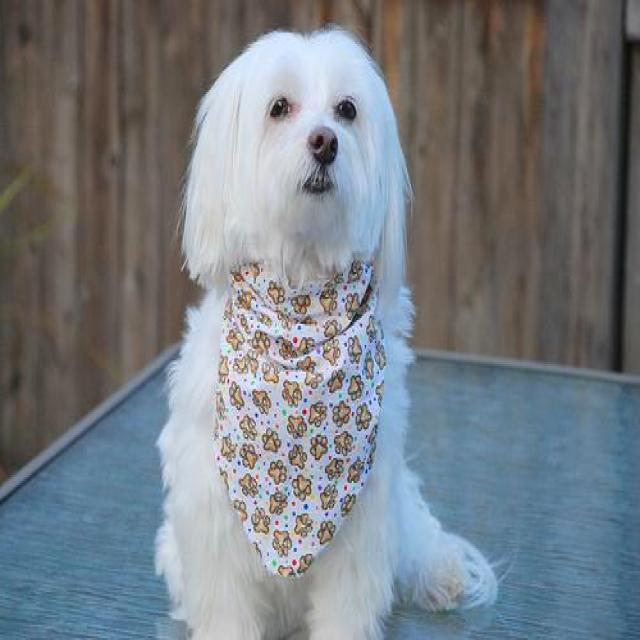maltese_dog: (158, 31, 464, 638)
